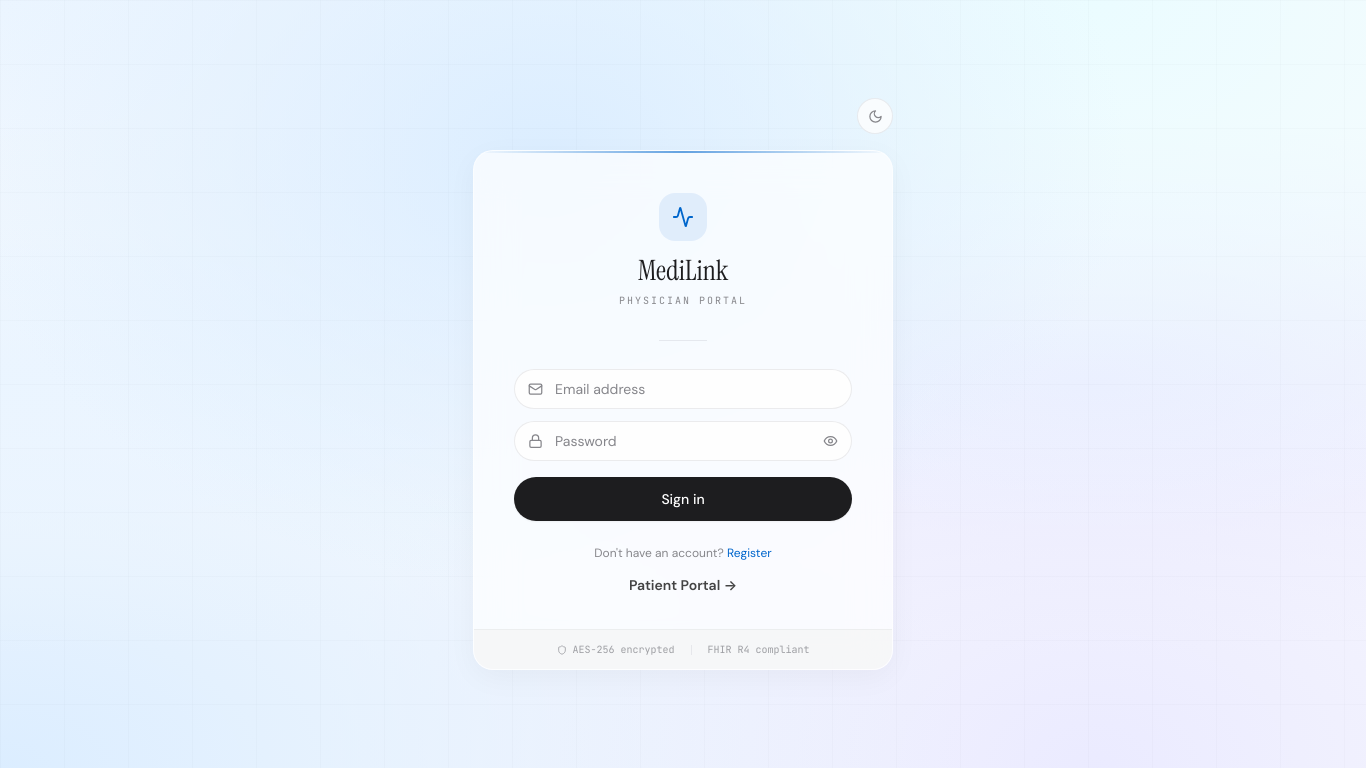
LoginForm › shows TOTP form when TOTP is required
Type "totp@medilink.in" into the field with placeholder "Email address" at point(683, 389), box [514,369,852,409]
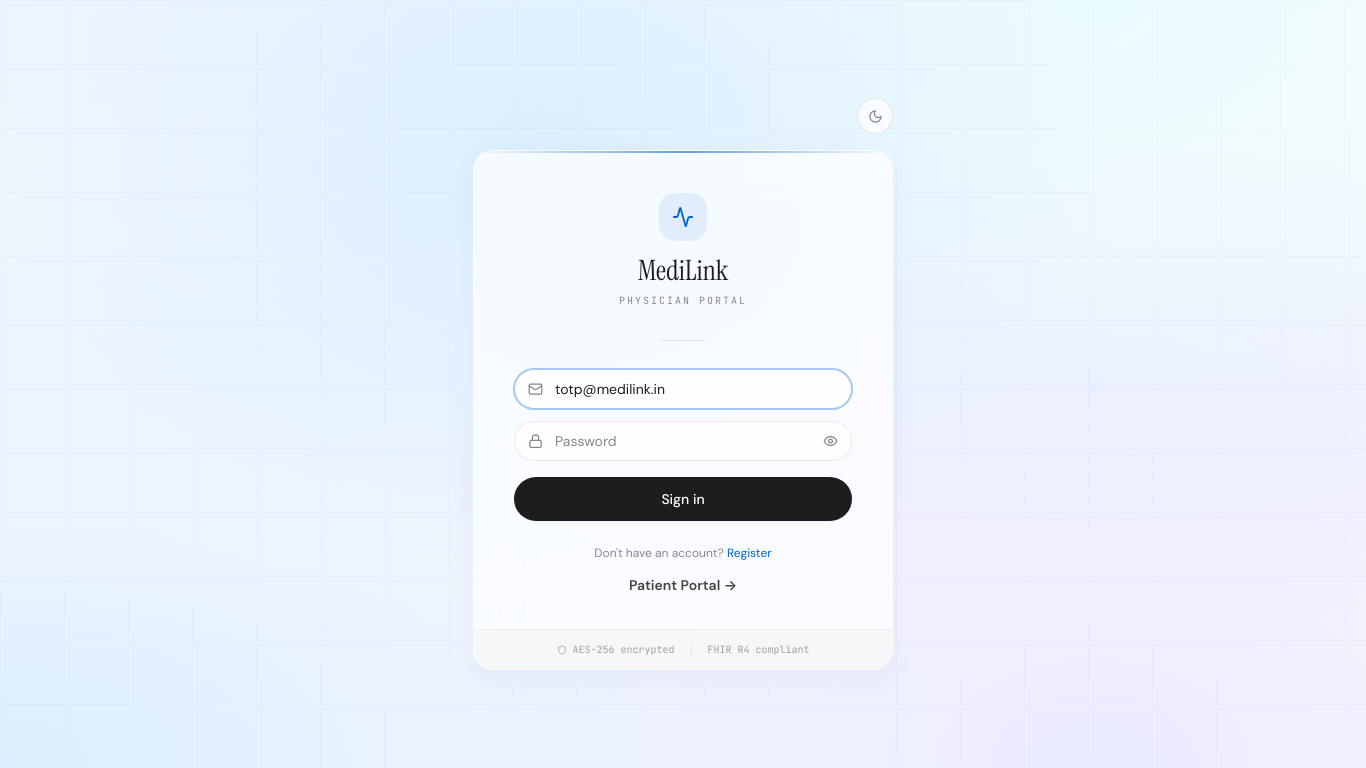
Type "password123" into the password field with placeholder "Password" at point(683, 441), box [514,421,852,461]
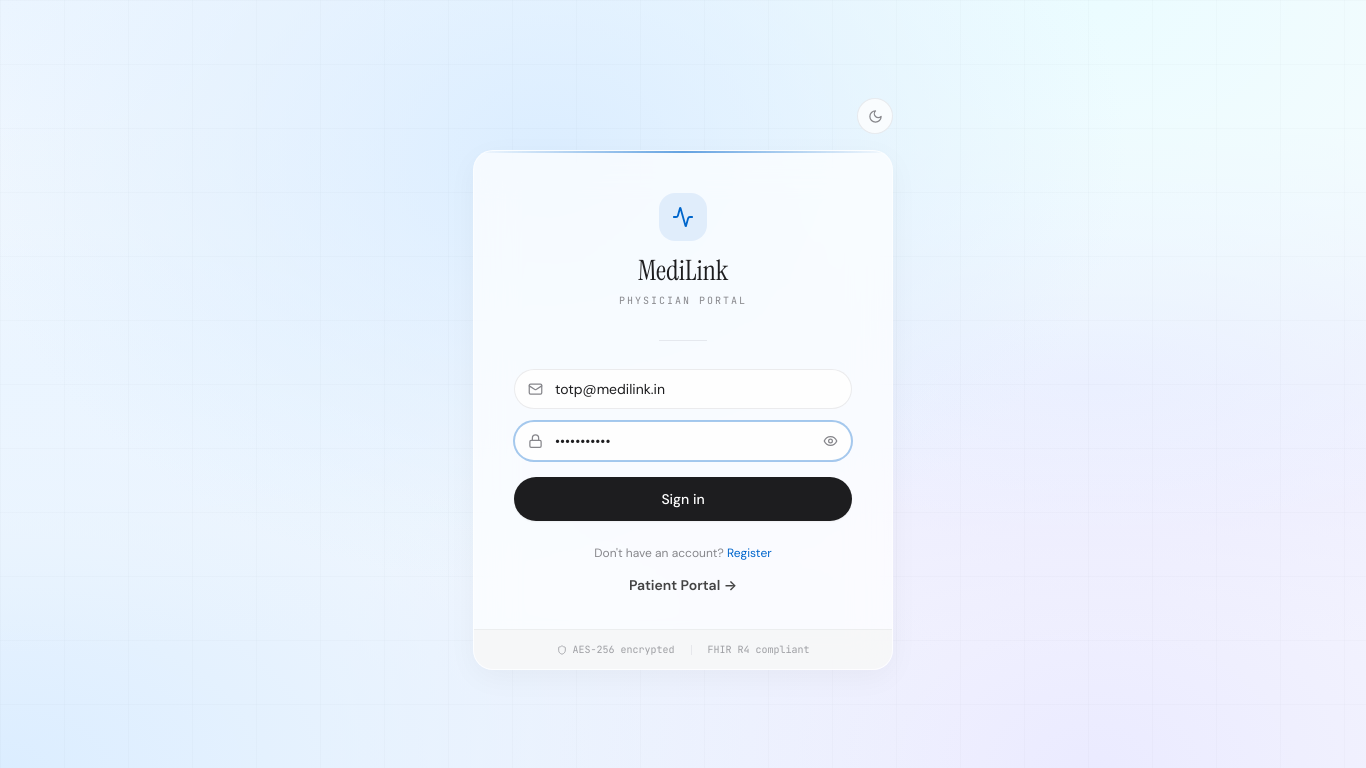
Click the button "Sign in" at point(683, 499), box [514,477,852,521]
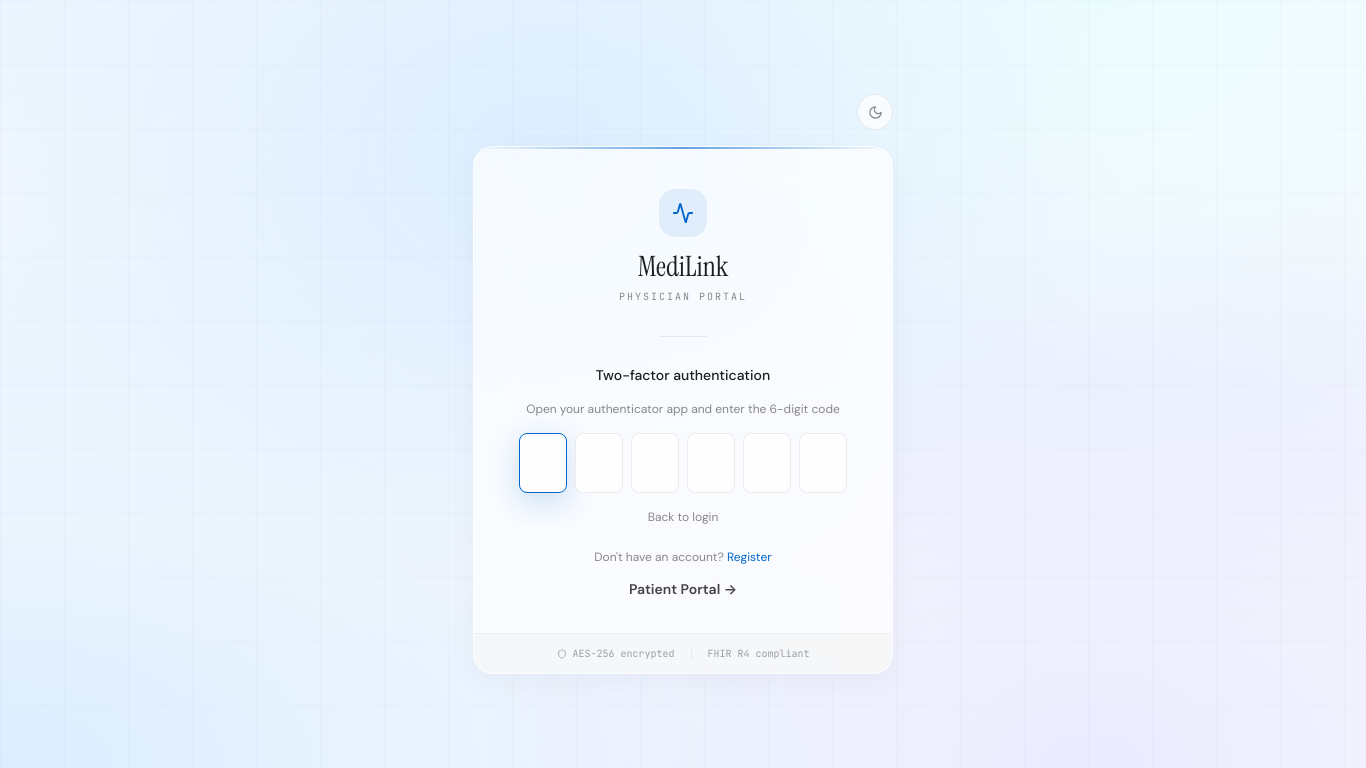
Expected: the heading "Two-factor authentication" is shown, [596,366,770,384]
